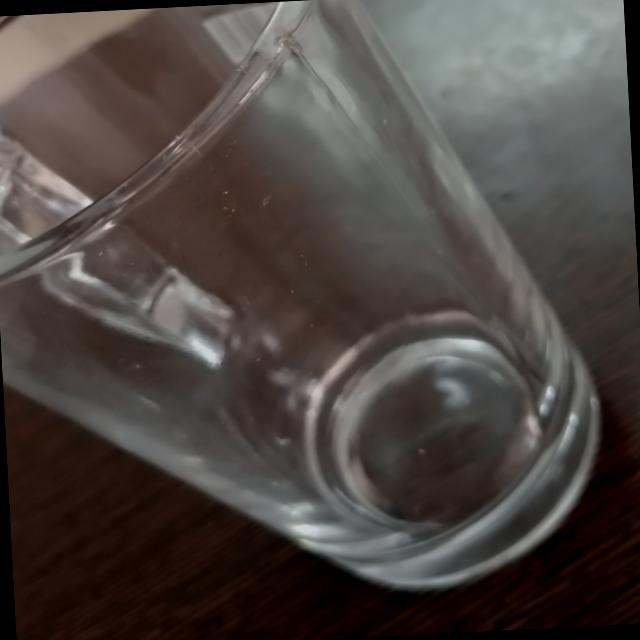glass-VX4N: (0, 0, 615, 615)
